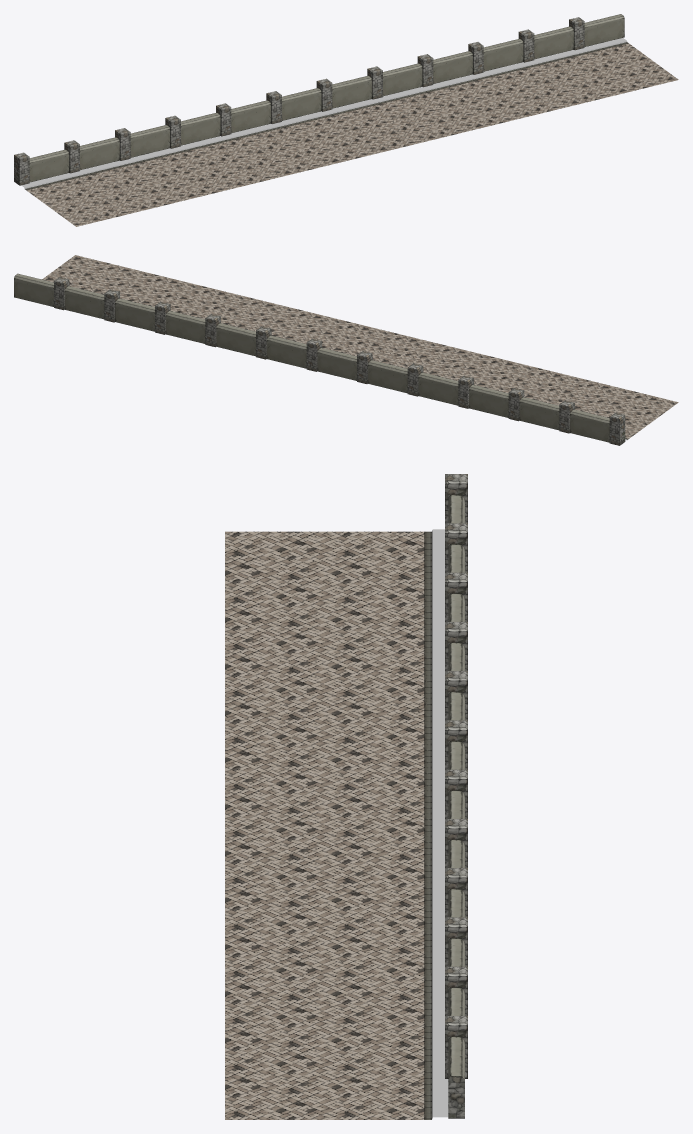
Rendered from entrypath.fbx.
The picture shows the model from 3 angles, top to bottom: view 1: azimuth 30°, elevation 25°; view 2: azimuth 150°, elevation 25°; view 3: azimuth 270°, elevation 25°; orthographic projection. The views are drawn at different scales.
Visible parts, largest first — view 1: Plane; view 2: Plane; view 3: Plane.
Boxes of the visible parts, left/top/right/bottom form: Plane: left=14, top=14, right=678, bottom=226; Plane: left=14, top=255, right=678, bottom=445; Plane: left=225, top=474, right=467, bottom=1119.
Size of the model in its own units: 13220 by 597 by 2296.
